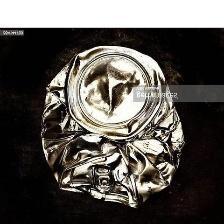can: (38, 44, 187, 210)
